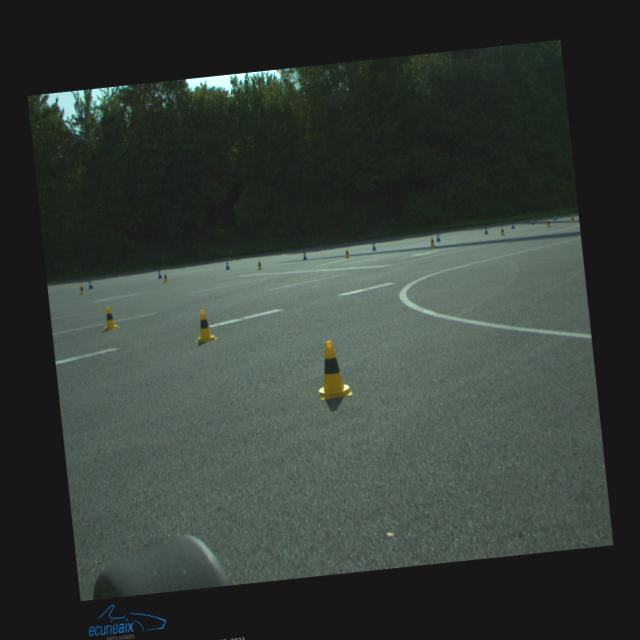blue_cone: (87, 279, 93, 289), (371, 242, 376, 250), (225, 262, 230, 270), (157, 270, 162, 278), (483, 226, 488, 233), (436, 233, 440, 241), (302, 252, 306, 260), (531, 218, 535, 224), (510, 222, 514, 228), (553, 216, 556, 220)
yellow_cone: (313, 338, 352, 401), (192, 308, 218, 342), (100, 305, 120, 331), (162, 272, 169, 282), (78, 284, 85, 294), (344, 248, 350, 258), (256, 260, 262, 270), (545, 218, 551, 227), (429, 237, 435, 246), (499, 227, 504, 236), (569, 214, 574, 222)
